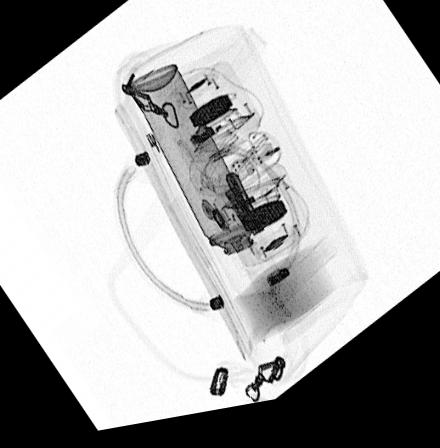Sprayer: (124, 70, 277, 302)
